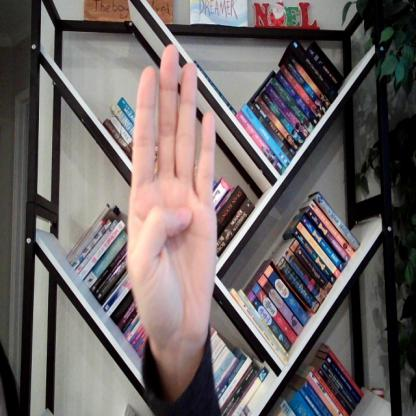four: (127, 46, 223, 347)
